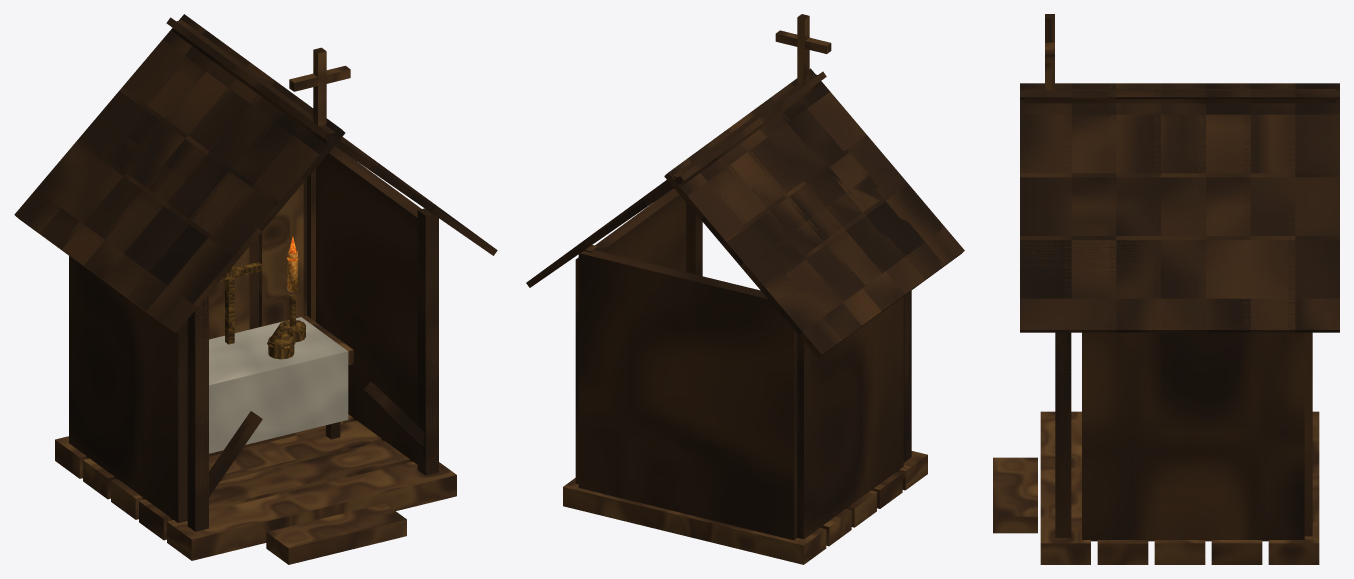
The model's file is medieval_field_shrine_3d_runtime.glb.
3 renders of one model, left to right at view 1: azimuth 30°, elevation 25°; view 2: azimuth 150°, elevation 25°; view 3: azimuth 270°, elevation 25°, orthographic. The views are drawn at different scales.
Parts seen in each view (by area): view 1: FIELD_SHRINE_WOOD_DARK_BATCH, FIELD_SHRINE_WOOD_MID_BATCH, FIELD_SHRINE_ALTAR_CLOTH_BATCH, FIELD_SHRINE_BRONZE_BATCH; view 2: FIELD_SHRINE_WOOD_DARK_BATCH, FIELD_SHRINE_WOOD_MID_BATCH; view 3: FIELD_SHRINE_WOOD_DARK_BATCH, FIELD_SHRINE_WOOD_MID_BATCH.
Boxes of the visible parts, bbox=[...] form: FIELD_SHRINE_WOOD_DARK_BATCH: bbox=[14, 14, 497, 531]; FIELD_SHRINE_WOOD_MID_BATCH: bbox=[55, 47, 456, 564]; FIELD_SHRINE_ALTAR_CLOTH_BATCH: bbox=[209, 317, 348, 453]; FIELD_SHRINE_BRONZE_BATCH: bbox=[220, 262, 305, 359]; FIELD_SHRINE_WOOD_DARK_BATCH: bbox=[526, 68, 964, 540]; FIELD_SHRINE_WOOD_MID_BATCH: bbox=[563, 14, 927, 564]; FIELD_SHRINE_WOOD_DARK_BATCH: bbox=[1020, 83, 1339, 541]; FIELD_SHRINE_WOOD_MID_BATCH: bbox=[993, 14, 1319, 564].
Bounding box in the file's own units: 2.89 × 4.06 × 2.62.
6 materials, 6 textured.
